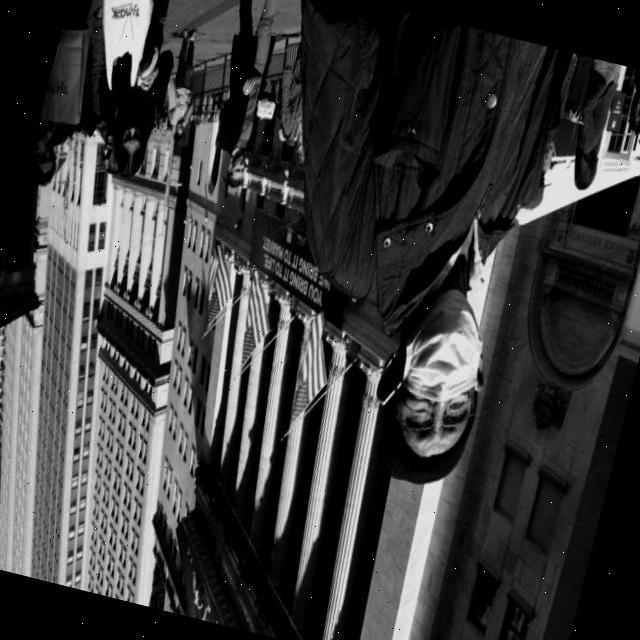mask: (407, 313, 483, 391)
no_gloves: (384, 443, 469, 491)
